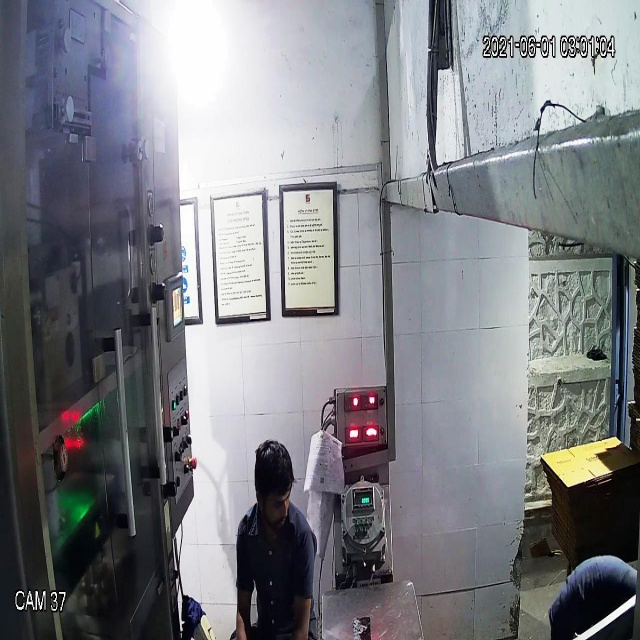Sin_gafas: (253, 482, 294, 518)
